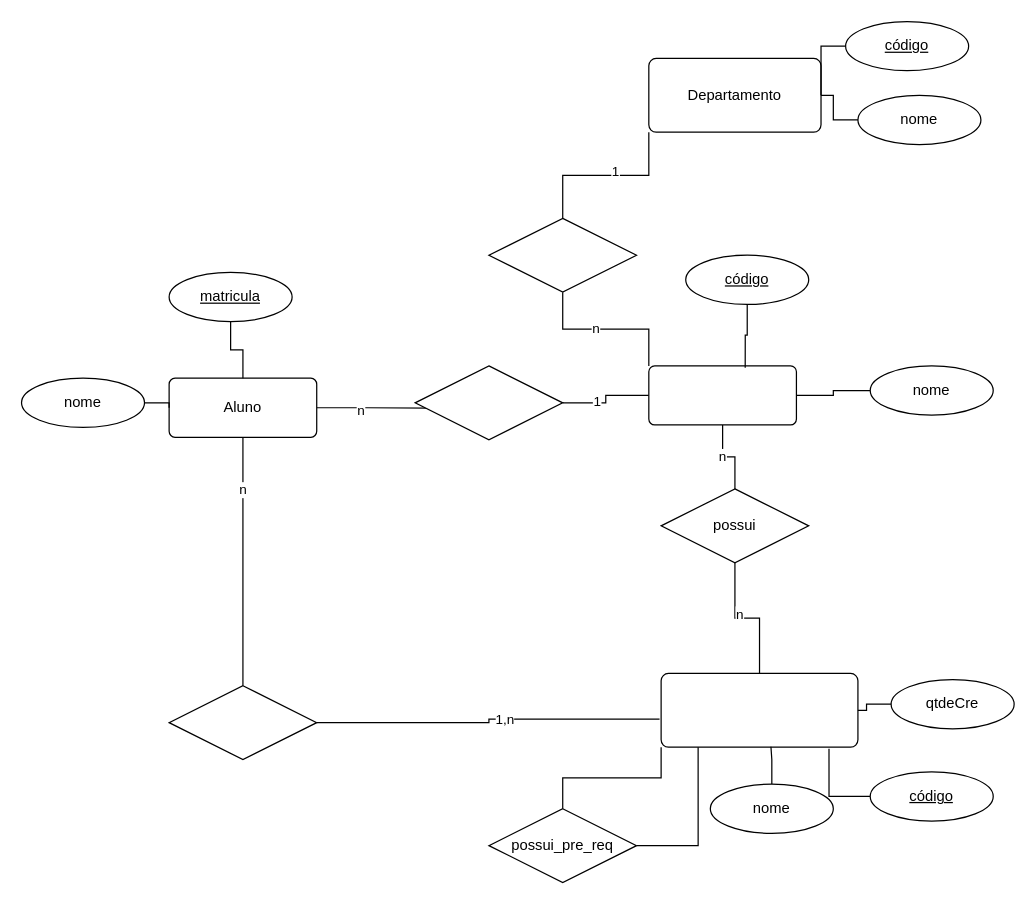
Some shapes in this 1036 by 904 pixel diagram are drawn without their labels. Each missing label, with the centre of its shape:
"Curso" belongs at pixel 722 395.
"Disciplina" belongs at pixel 759 709.
"estuda" belongs at pixel 488 402.
"matricular" belongs at pixel 242 722.
"pertece" belongs at pixel 562 254.
